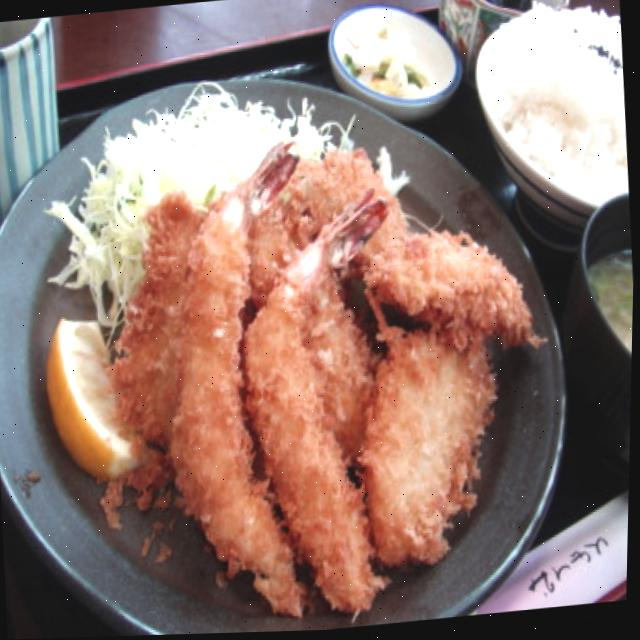炸货点心: (102, 170, 543, 618)
熟制海鲜: (102, 170, 543, 618)
